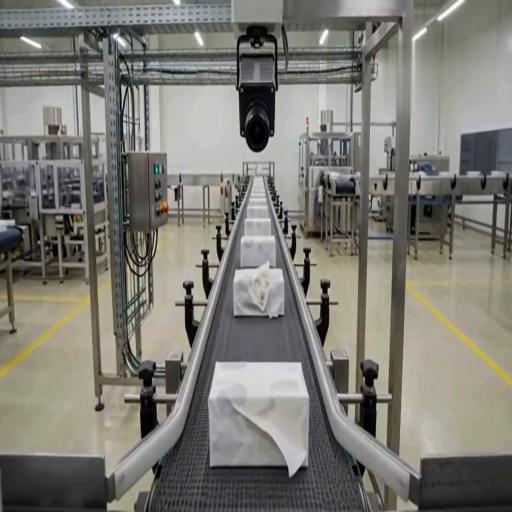defective: (208, 361, 307, 475), (233, 267, 286, 318)
good: (240, 234, 276, 270), (242, 217, 272, 239), (245, 182, 268, 204), (246, 204, 270, 220)
